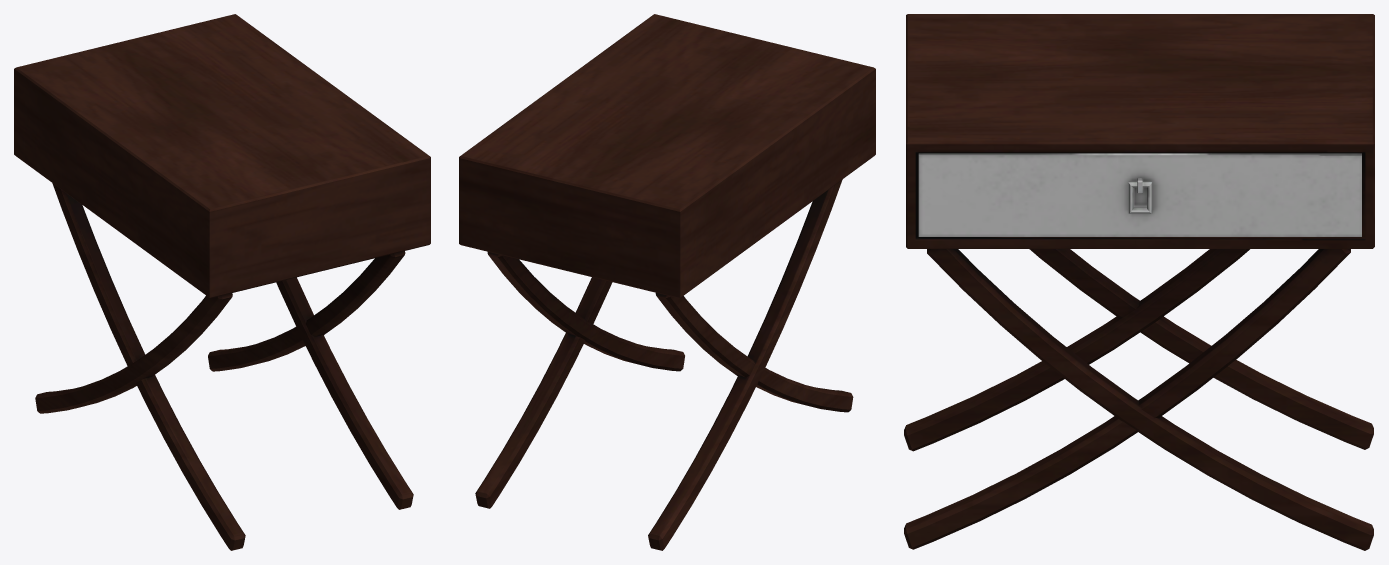
File: SideTable.glb
The picture shows the model from 3 angles, left to right: view 1: azimuth 30°, elevation 25°; view 2: azimuth 150°, elevation 25°; view 3: azimuth 270°, elevation 25°; orthographic projection. The views are drawn at different scales.
Parts seen in each view (by area): view 1: SM_BedSide; view 2: SM_BedSide; view 3: SM_BedSide.
Boxes of the visible parts, x1,y1,x2,y2 form: SM_BedSide: (14,14,430,550); SM_BedSide: (459,14,875,550); SM_BedSide: (904,14,1374,550).
Bounding box in the file's own units: 0.4017 × 0.5892 × 0.601.
1 material, 1 textured.
